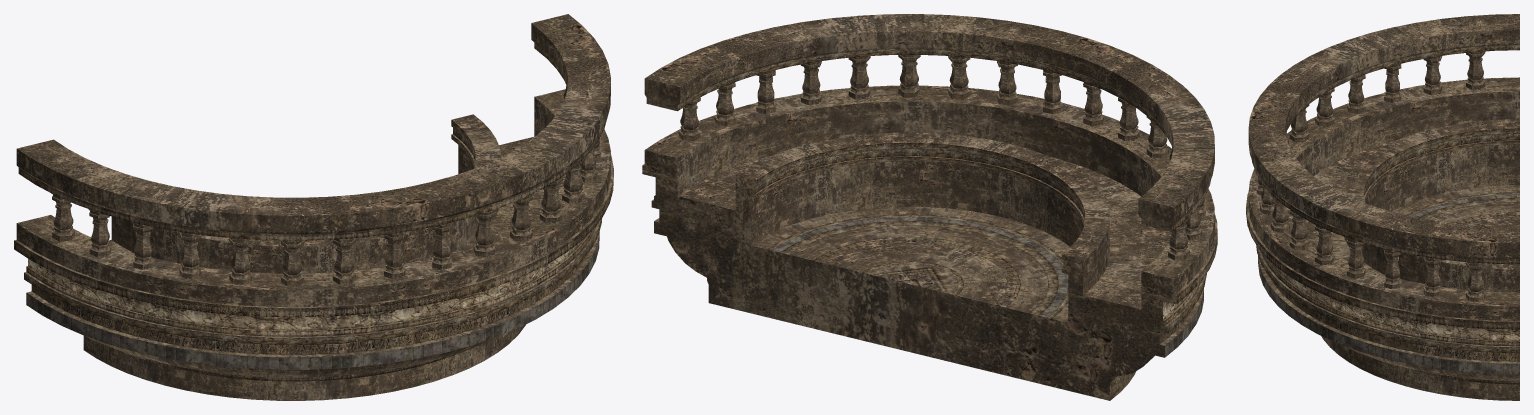
Rendered from materials_5_balcony_0.fbx.
3 renders of one model, left to right at view 1: azimuth 30°, elevation 25°; view 2: azimuth 150°, elevation 25°; view 3: azimuth 270°, elevation 25°, orthographic. The views are drawn at different scales.
Visible parts, largest first — view 1: materials_5_balcony_0; view 2: materials_5_balcony_0; view 3: materials_5_balcony_0.
Boxes of the visible parts, <box> form: materials_5_balcony_0: <box>14,14,613,400</box>; materials_5_balcony_0: <box>642,14,1217,400</box>; materials_5_balcony_0: <box>1246,14,1519,400</box>.
Size of the model in its own units: 544 by 203 by 272.
